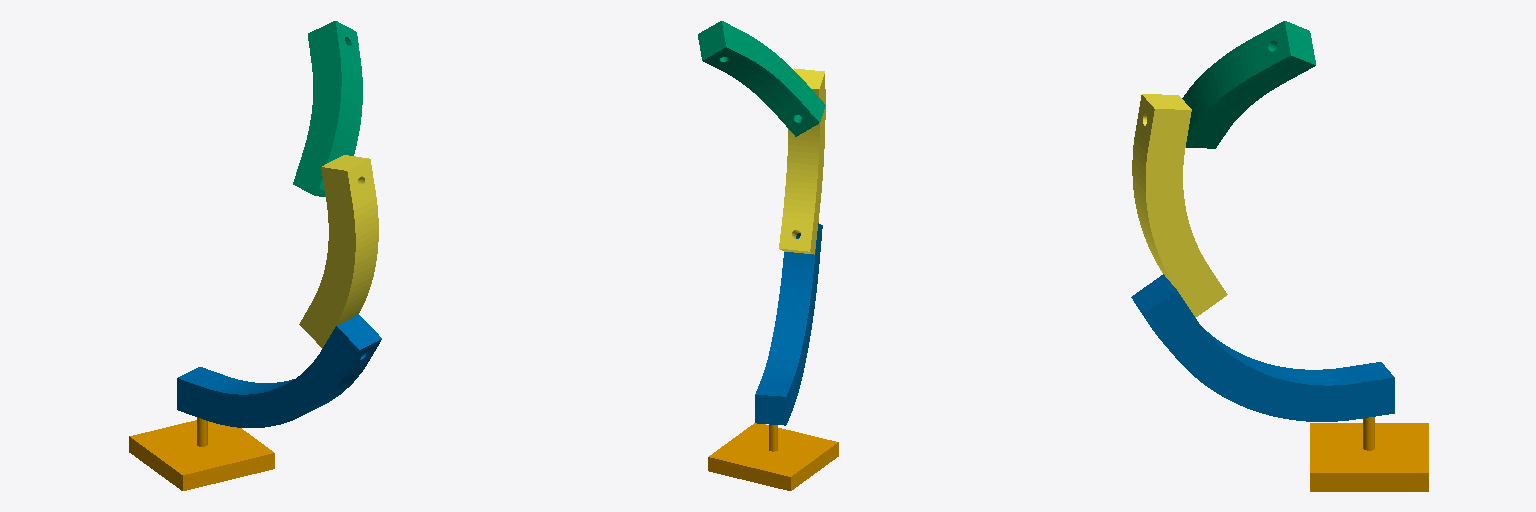
The robot description file, URDF, robot "spherical_manipulator":
<?xml version='1.0' encoding='utf-8'?>
<robot name="spherical_manipulator">

<!-- Base Link -->
<link name="base">
    <visual>
        <origin xyz="0.0 0.0 0.0" rpy="0.0 0.0 0.0" />
        <geometry>
            <mesh filename="package://my_spherical_manipulator/meshes/base.stl" scale="0.001 0.001 0.001" />
        </geometry>
    </visual>
    <collision>
        <origin xyz="0.0 0.0 0.0" rpy="0.0 0.0 0.0" />
        <geometry>
            <mesh filename="package://my_spherical_manipulator/meshes/base.stl" scale="0.001 0.001 0.001" />
        </geometry>
    </collision>
</link>

<!-- Dummy Link for Inertia -->
<link name="dummy_base">
    <inertial>
        <origin xyz="-0.015 0.015 0.00273" rpy="0.0 0.0 0.0" />
        <mass value="150.036157" />
        <inertia ixx="2.82e-03" iyy="2.82e-03" izz="5.3e-03" ixy="0.0" iyz="0.0" ixz="0.0" />
    </inertial>
</link>

    <!-- Small Link -->
    <link name="small">
        <inertial>
            <origin xyz="-0.0154 -0.01326 -0.00339" rpy="0.0 0.0 0.0" />
            <mass value="0.0372" />
            <inertia ixx="4.05e-03" iyy="4.0e-03" izz="7.31e-03" ixy="0.0" iyz="0.0" ixz="0.0" />
        </inertial>
        <visual>
            <origin xyz="-0.03017 0.0035 -0.05223" rpy="0.3729 1.0069 2.8111" />
            <geometry>
                <mesh filename="package://my_spherical_manipulator/meshes/small.stl" scale="0.001 0.001 0.001" />
            </geometry>
        </visual>
        <collision>
            <origin xyz="-0.03017 0.0035 -0.05223" rpy="0.3729 1.0069 2.8111" />
            <geometry>
                <mesh filename="package://my_spherical_manipulator/meshes/small.stl" scale="0.001 0.001 0.001" />
            </geometry>
        </collision>
    </link>

    <!-- Medium Link -->
    <link name="medium">
        <inertial>
            <origin xyz="0.00104 -0.02517 0.0023" rpy="0.0 0.0 0.0" />
            <mass value="0.0447" />
            <inertia ixx="1.235e-02" iyy="1.28e-03" izz="1.19e-02" ixy="0.0" iyz="0.0" ixz="0.0" />
        </inertial>
        <visual>
            <origin xyz="-0.00343 -0.03421 -0.04968" rpy="1.2088 1.0221 -1.8593" />
            <geometry>
                <mesh filename="package://my_spherical_manipulator/meshes/medium.stl" scale="0.001 0.001 0.001" />
            </geometry>
        </visual>
        <collision>
            <origin xyz="-0.00343 -0.03421 -0.04968" rpy="1.2088 1.0221 -1.8593" />
            <geometry>
                <mesh filename="package://my_spherical_manipulator/meshes/medium.stl" scale="0.001 0.001 0.001" />
            </geometry>
        </collision>
    </link>

    <!-- Large Link -->
    <link name="large">
        <inertial>
            <origin xyz="0.01046 -0.02854 0.01198" rpy="0.0 0.0 0.0" />
            <mass value="0.0598" />
            <inertia ixx="2.58e-02" iyy="1.05e-02" izz="2.1e-02" ixy="0.0" iyz="0.0" ixz="0.0" />
        </inertial>
        <visual>
            <origin xyz="-0.00297 -0.006415 0.056" rpy="-2.79 -1.57 0.0" />
            <geometry>
                <mesh filename="package://my_spherical_manipulator/meshes/large.stl" scale="0.001 0.001 0.001" />
            </geometry>
        </visual>
        <collision>
            <origin xyz="-0.00297 -0.006415 0.056" rpy="-2.79 -1.57 0.0" />
            <geometry>
                <mesh filename="package://my_spherical_manipulator/meshes/large.stl" scale="0.001 0.001 0.001" />
            </geometry>
        </collision>
    </link>

    <!-- Joints -->
    
    <joint name="base_to_dummy" type="fixed">
        <parent link="base"/>
        <child link="dummy_base"/>
        <origin xyz="0 0 0" rpy="0 0 0"/>
    </joint>
    
    <joint name="base_Revolute_1" type="continuous">
        <origin xyz="-0.015 0.015 0.02" rpy="0.0 0.0 0.0" />
        <parent link="base" />
        <child link="large" />
        <axis xyz="0.0 0.0 1.0" />
        <limit effort="100.0" velocity="1.0" lower="-1.57" upper="1.57"/>

        <!--dynamics damping="0.1" friction="0.1" /-->
    </joint>

    <joint name="large_Revolute_2" type="continuous">
        <origin xyz="0.01749 -0.0477 0.03533" rpy="-1.57 0.0 -2.618" />
        <parent link="large" />
        <child link="medium" />
        <axis xyz="-0.148 -0.5 -0.853" />
        <limit effort="100.0" velocity="1.0" lower="-1.57" upper="1.57"/>

        <!--dynamics damping="0.1" friction="0.1" /-->
    </joint>

    <joint name="medium_Revolute_3" type="continuous">
        <origin xyz="0.0009125 -0.04792 -0.001272" rpy="0.0 -0.349 0.0" />
        <parent link="medium" />
        <child link="small" />
        <axis xyz="-0.506 0.173 -0.845" />
        <limit effort="100.0" velocity="1.0" lower="-1.57" upper="1.57"/>

        <!--dynamics damping="0.1" friction="0.1" /-->
    </joint>


    <!-- Transmissions -->
    <transmission name="base_Revolute_1_trans">
        <type>transmission_interface/SimpleTransmission</type>
        <joint name="base_Revolute_1">
            <hardwareInterface>hardware_interface/EffortJointInterface</hardwareInterface>
        </joint>
        <actuator name="base_Revolute_1_motor">
            <mechanicalReduction>1</mechanicalReduction>
        </actuator>
    </transmission>

    <transmission name="large_Revolute_2_trans">
        <type>transmission_interface/SimpleTransmission</type>
        <joint name="large_Revolute_2">
            <hardwareInterface>hardware_interface/PositionJointInterface</hardwareInterface>
        </joint>
        <actuator name="large_Revolute_2_motor">
            <mechanicalReduction>1</mechanicalReduction>
        </actuator>
    </transmission>

    <transmission name="medium_Revolute_3_trans">
        <type>transmission_interface/SimpleTransmission</type>
        <joint name="medium_Revolute_3">
            <hardwareInterface>hardware_interface/VelocityJointInterface</hardwareInterface>
        </joint>
        <actuator name="medium_Revolute_3_motor">
            <mechanicalReduction>1</mechanicalReduction>
        </actuator>
    </transmission>
    <gazebo>
    <plugin name="gazebo_ros_control" filename="libgazebo_ros_control.so">
        <robotNamespace>/</robotNamespace>
    </plugin>
</gazebo>

    <gazebo>
    <plugin name="joint_state_publisher"
        filename="libgazebo_ros_joint_state_publisher.so">
        <jointName>base_Revolute_1, large_Revolute_2, medium_Revolute_3</jointName>
        <updateRate>50</updateRate>
    </plugin>

    </gazebo>


</robot>

--- Render facts (derived) ---
Views: 3 orthographic renders of the robot side by side, from view 1: azimuth 30°, elevation 25°; view 2: azimuth 150°, elevation 25°; view 3: azimuth 270°, elevation 25°.
Model spherical_manipulator with 5 links and 4 joints (3 continuous, 1 fixed), rooted at base, posed all joints at 0.
Visible links, largest first — view 1: large, medium, small, base; view 2: large, small, base, medium; view 3: large, medium, base, small.
Link boxes in pixels (<box>): large: <box>177,314,381,427</box>; medium: <box>299,155,378,348</box>; small: <box>293,21,362,196</box>; base: <box>129,417,274,490</box>; large: <box>755,223,822,425</box>; small: <box>698,21,825,136</box>; base: <box>708,423,838,490</box>; medium: <box>779,68,825,254</box>; large: <box>1131,274,1394,421</box>; medium: <box>1132,94,1227,317</box>; base: <box>1310,417,1428,491</box>; small: <box>1182,21,1315,148</box>.
Bounding box of the posed robot: 0.0539 × 0.0749 × 0.1381 m (x, y, z).
4 mesh visuals loaded from 4 distinct referenced files (4 binary STL).